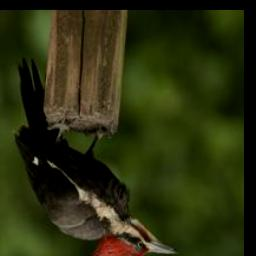Woodpecker: (1, 54, 183, 256)
